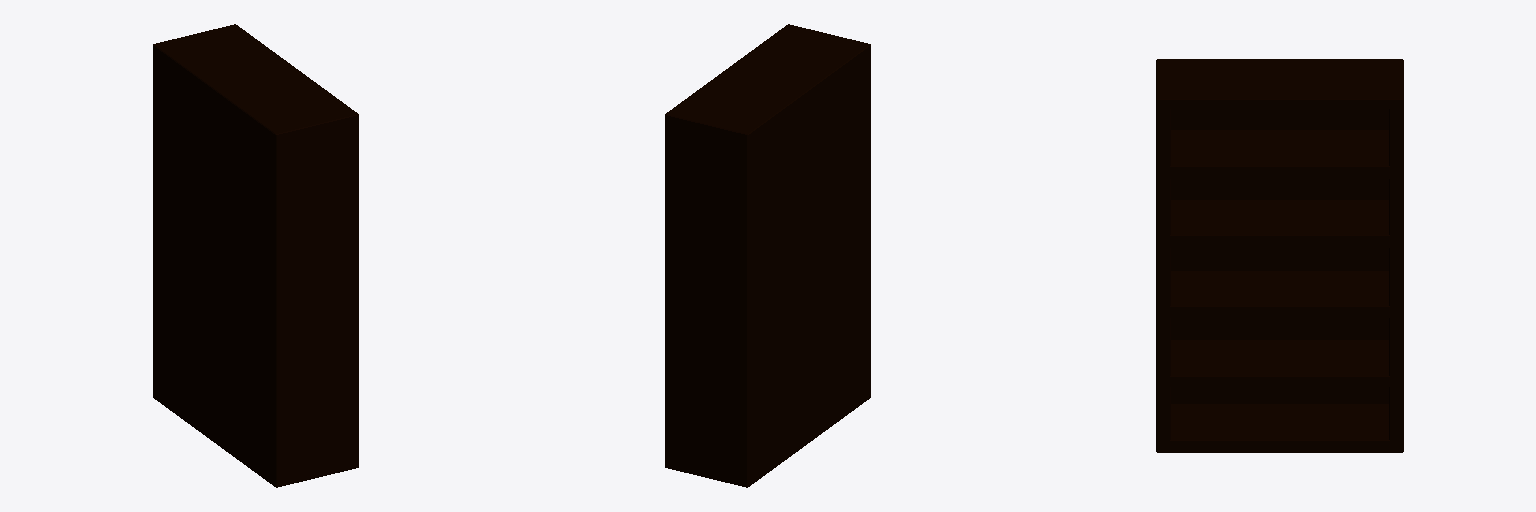
The model's file is Bookshelf.obj.
3 renders of one model, left to right at view 1: azimuth 30°, elevation 25°; view 2: azimuth 150°, elevation 25°; view 3: azimuth 270°, elevation 25°, orthographic.
Visible parts, largest first — view 1: Cube_Cube.002; view 2: Cube_Cube.002; view 3: Cube_Cube.002.
Part boxes in pixels (x1,y1,x2,y2): Cube_Cube.002: (153,24,358,487); Cube_Cube.002: (665,24,870,487); Cube_Cube.002: (1156,59,1403,452).
Bounding box in the file's own units: 2.04 × 8.24 × 5.23.